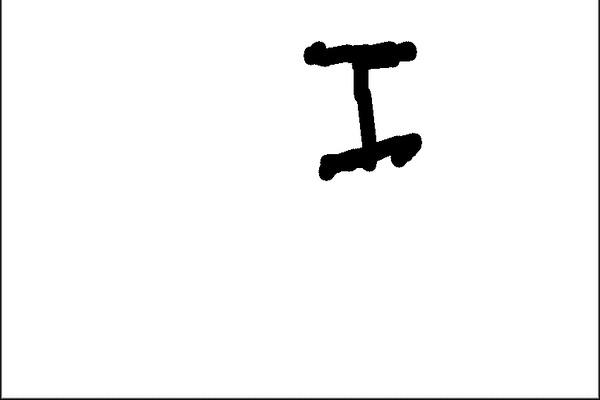i: (294, 28, 439, 183)
